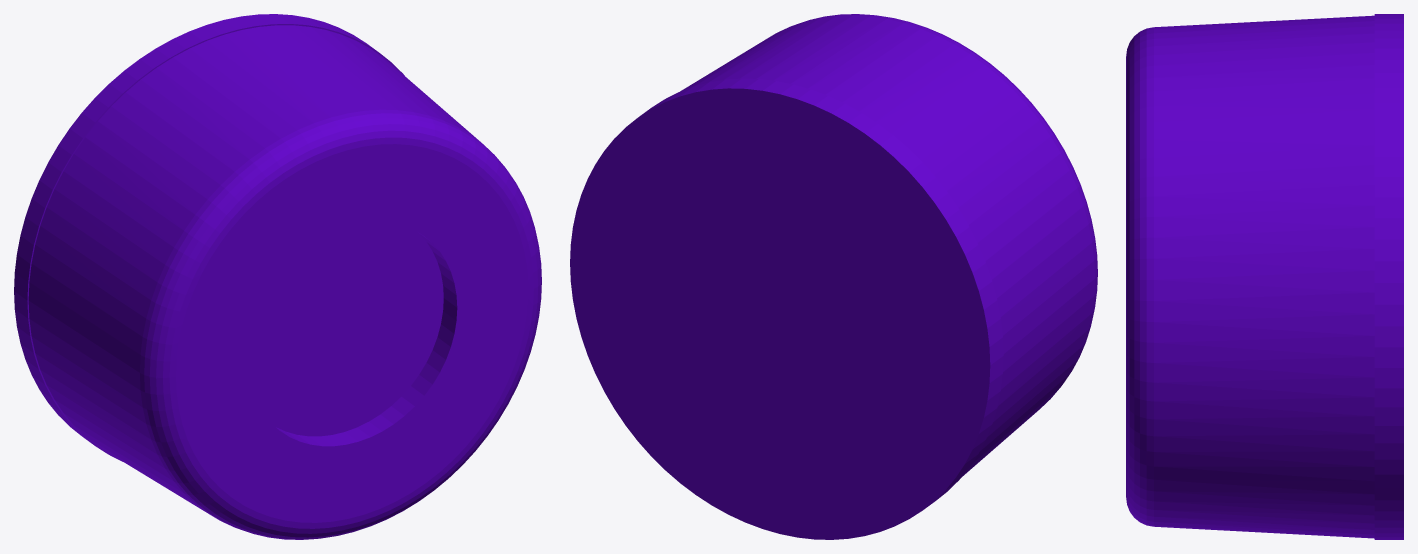
The model's file is cap.obj.
3 views of the same model, side by side, from view 1: azimuth 30°, elevation 25°; view 2: azimuth 150°, elevation 25°; view 3: azimuth 270°, elevation 25° (orthographic). The views are drawn at different scales.
Parts seen in each view (by area): view 1: 8Mm_Vial_Cap; view 2: 8Mm_Vial_Cap; view 3: 8Mm_Vial_Cap.
Part boxes in pixels (x1,y1,x2,y2): 8Mm_Vial_Cap: (14, 14, 541, 539); 8Mm_Vial_Cap: (570, 14, 1097, 539); 8Mm_Vial_Cap: (1126, 14, 1403, 539).
Size of the model in its own units: 0.018 by 0.018 by 0.0095.
